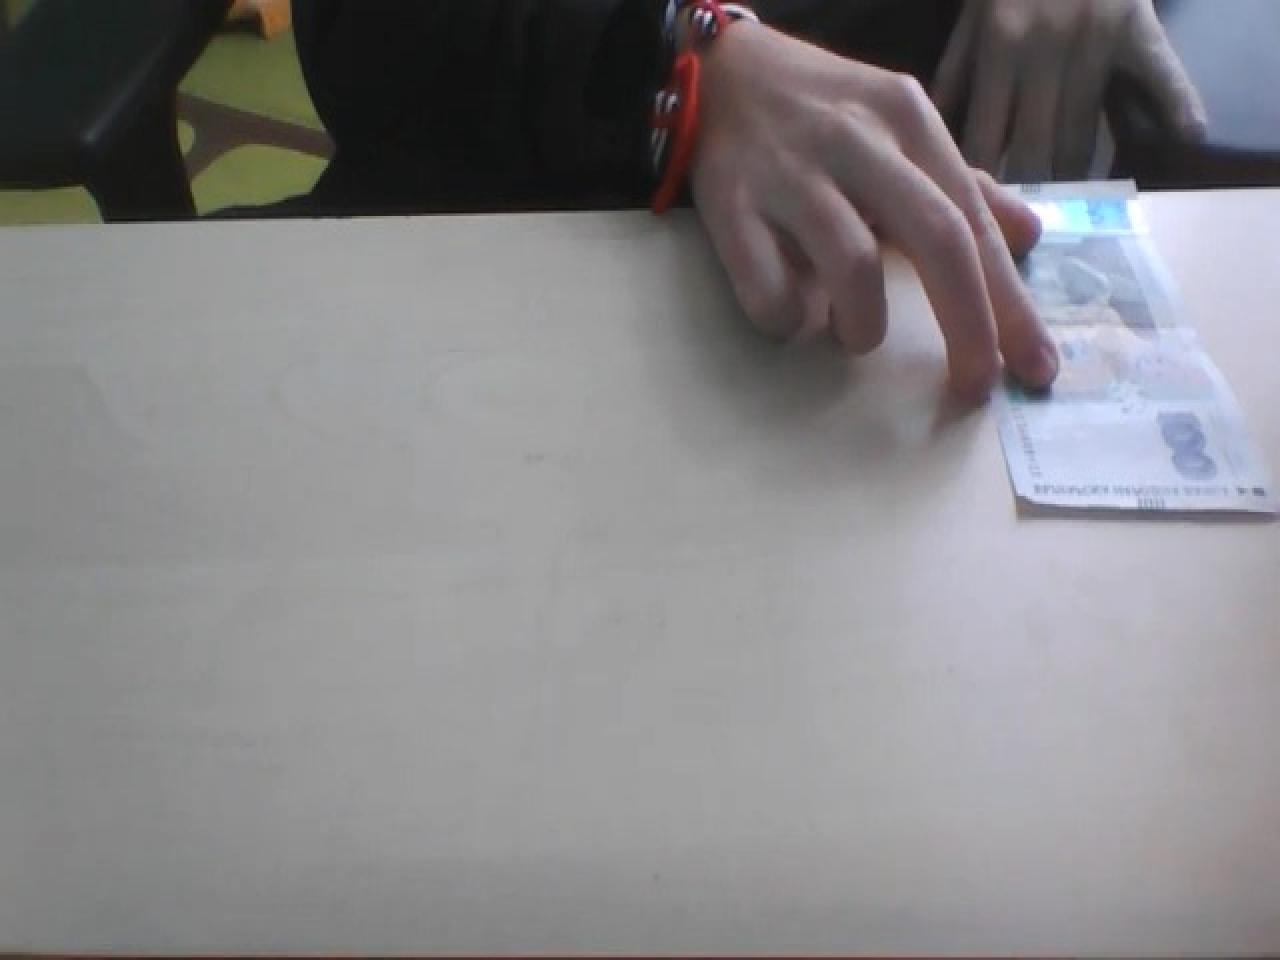100leva: (992, 173, 1274, 517)
